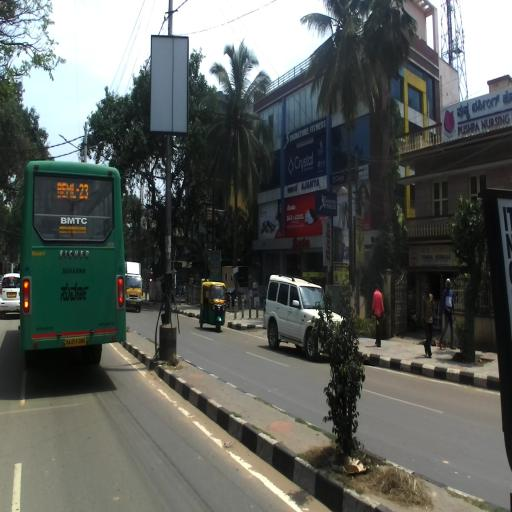street_light_0: (57, 134, 85, 154)
